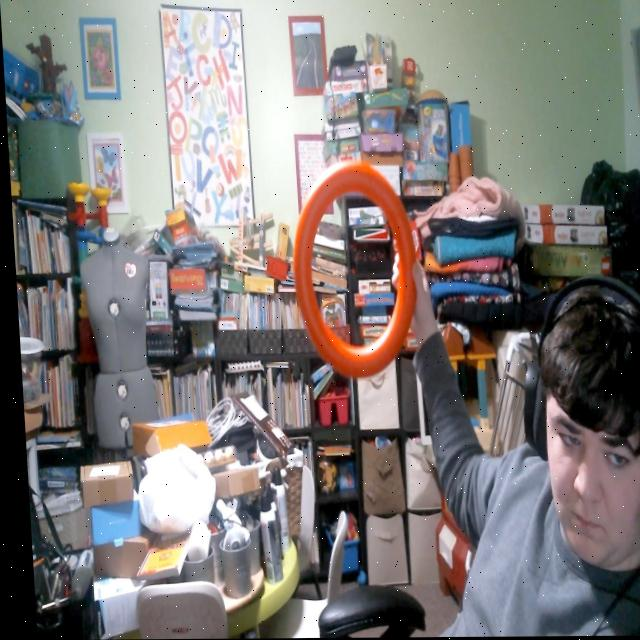note: (285, 159, 419, 383)
